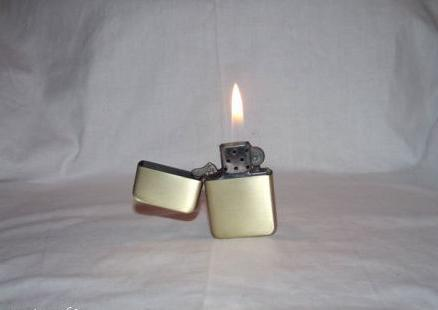fire: (221, 77, 256, 152)
